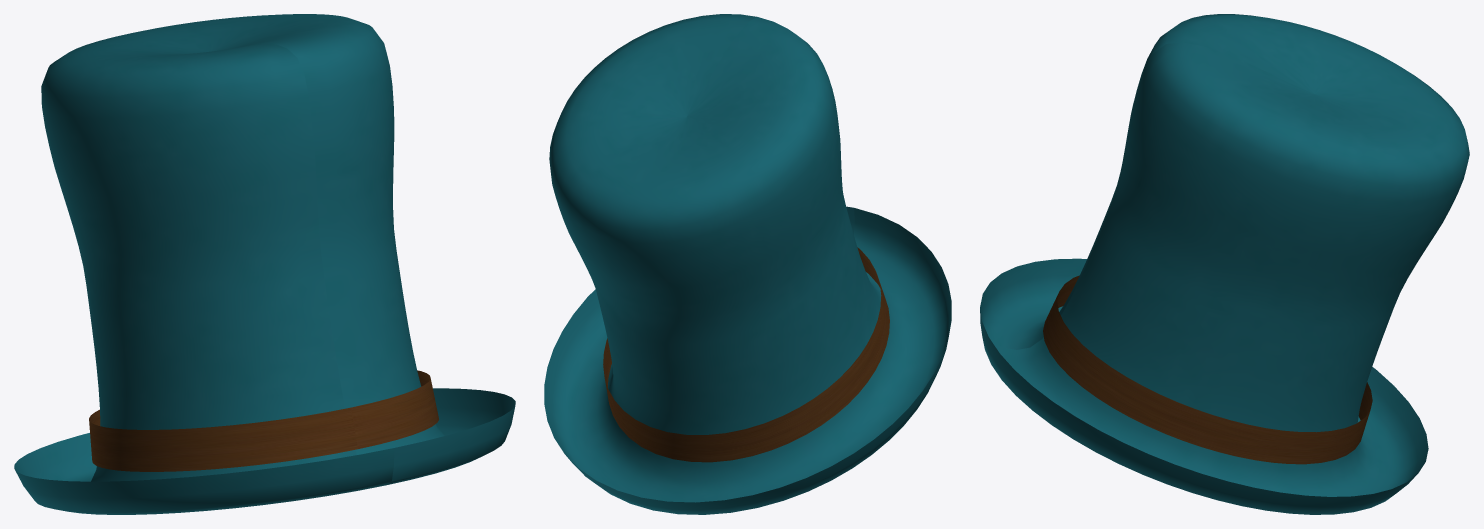
Rendered from hat.stovepipe.gltf.
The picture shows the model from 3 angles, left to right: view 1: azimuth 30°, elevation 25°; view 2: azimuth 150°, elevation 25°; view 3: azimuth 270°, elevation 25°; orthographic projection. The views are drawn at different scales.
Visible parts, largest first — view 1: Head; view 2: Head; view 3: Head.
Part boxes in pixels (x1,y1,x2,y2): Head: (14, 14, 515, 514); Head: (544, 14, 951, 514); Head: (980, 14, 1469, 514).
Size of the model in its own units: 0.2991 by 0.3332 by 0.3421.
Materials: 1 (1 with a texture image).
